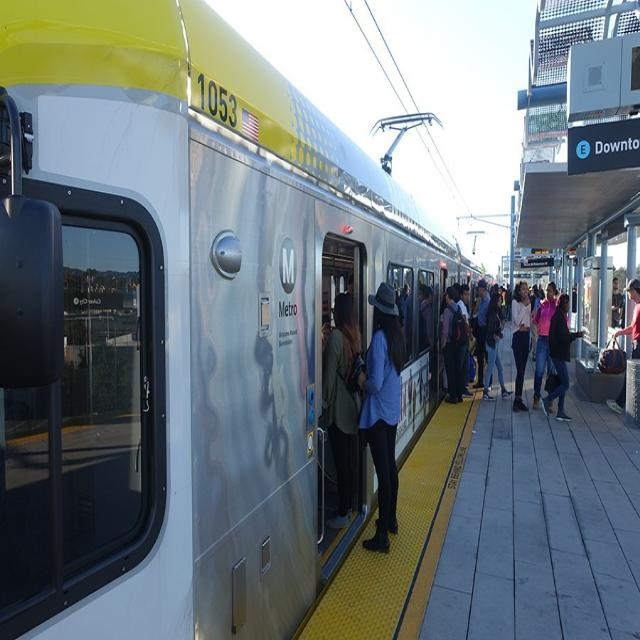body: (356, 280, 406, 554), (320, 290, 367, 533), (538, 292, 586, 423), (529, 279, 559, 414), (392, 279, 437, 366), (482, 290, 514, 402), (439, 285, 468, 405), (509, 279, 533, 414), (469, 278, 492, 391), (455, 283, 477, 399), (610, 277, 626, 331), (527, 277, 547, 317), (611, 276, 625, 329), (499, 284, 512, 321), (528, 316, 538, 360), (570, 282, 581, 314), (346, 273, 357, 301), (319, 320, 332, 341), (486, 280, 500, 296), (442, 362, 448, 394), (553, 287, 560, 306), (452, 282, 460, 293), (473, 285, 478, 302), (512, 280, 518, 294)
